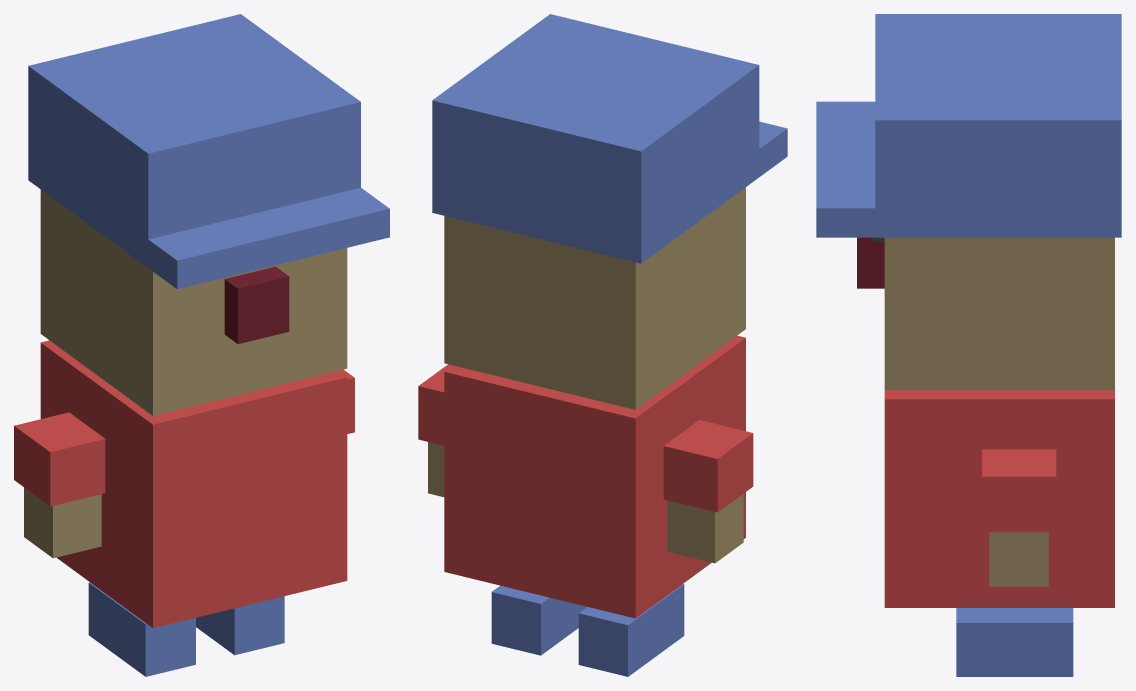
Rendered from char.fbx.
3 renders of one model, left to right at view 1: azimuth 30°, elevation 25°; view 2: azimuth 150°, elevation 25°; view 3: azimuth 270°, elevation 25°, orthographic. The views are drawn at different scales.
Visible parts, largest first — view 1: Char; view 2: Char; view 3: Char.
Part boxes in pixels (bbox=[...]): Char: bbox=[14, 14, 389, 676]; Char: bbox=[418, 14, 787, 676]; Char: bbox=[816, 14, 1121, 676].
Bounding box in the file's own units: 313 × 551 × 265.
